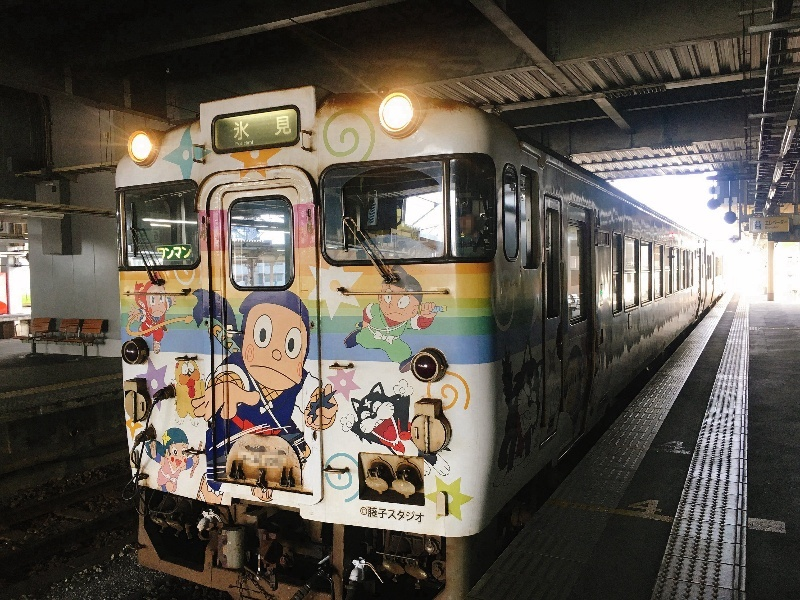text: (241, 115, 256, 141), (257, 115, 272, 141), (273, 115, 288, 141), (641, 496, 656, 515), (369, 506, 384, 523), (385, 506, 400, 523), (401, 506, 416, 523), (161, 246, 176, 259), (177, 246, 191, 259), (234, 115, 240, 141), (673, 440, 686, 451), (633, 496, 640, 515), (657, 496, 664, 515), (417, 506, 424, 523), (662, 440, 672, 451), (289, 115, 292, 141), (769, 220, 784, 225), (154, 231, 160, 241), (244, 140, 256, 145), (362, 509, 368, 514), (158, 246, 160, 259), (769, 227, 779, 229), (236, 142, 240, 146), (785, 220, 788, 225), (766, 220, 768, 225), (241, 142, 243, 146), (766, 227, 768, 229)
